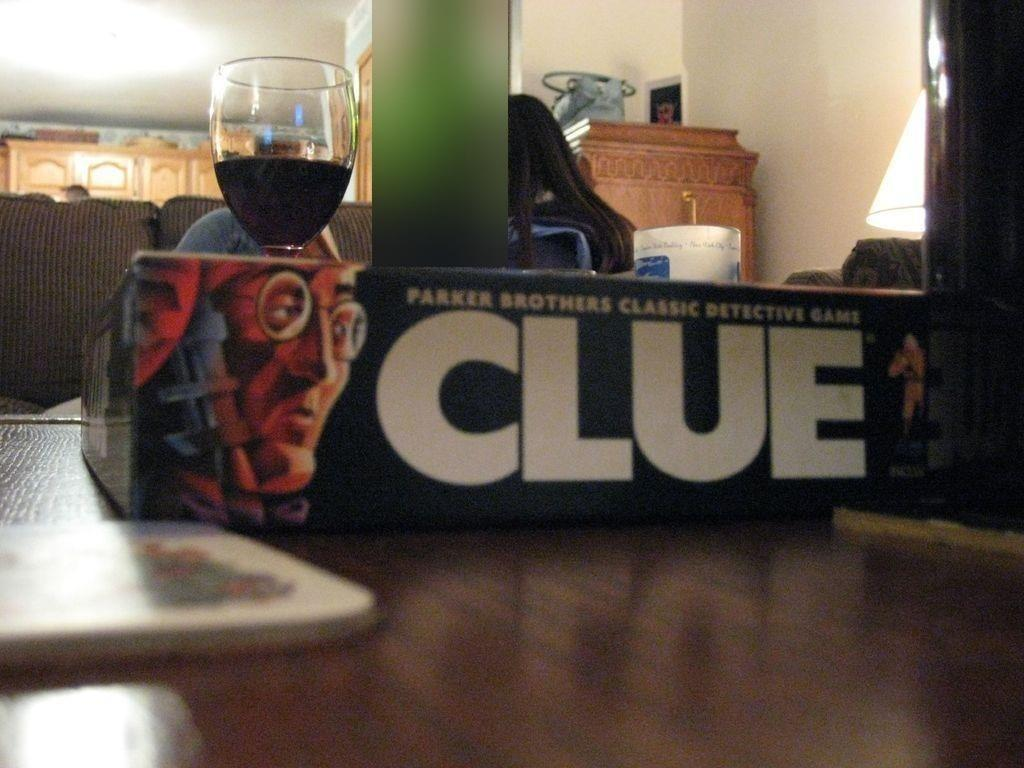glass-wine: (207, 55, 358, 261)
